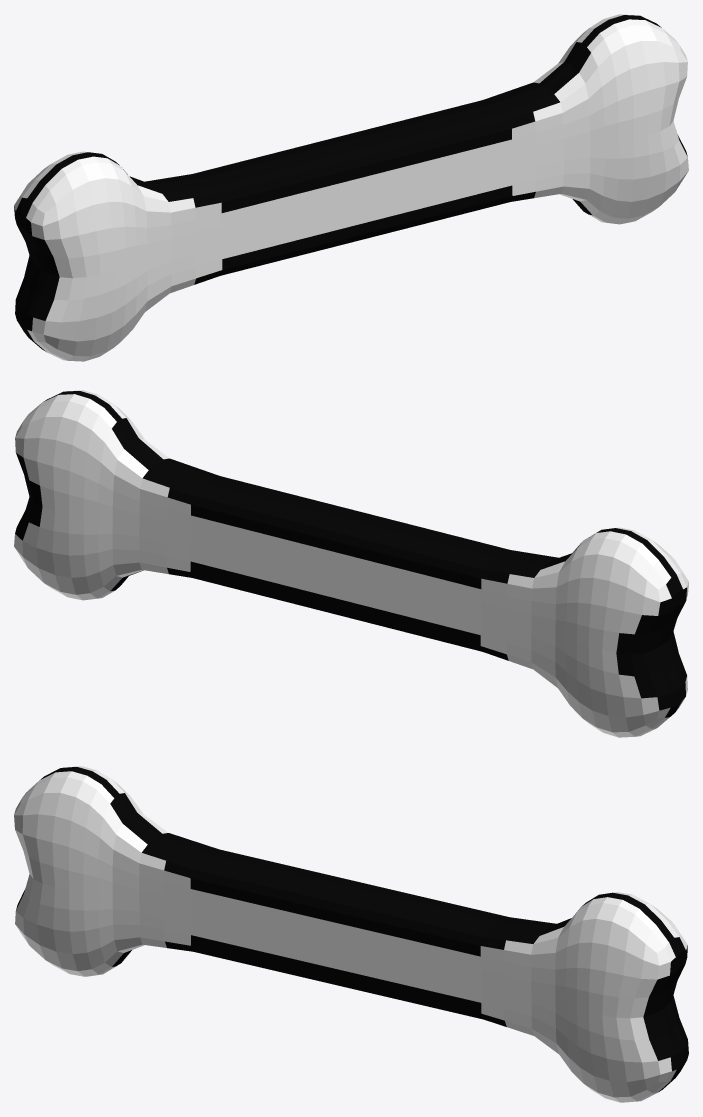
Rendered from bone.FBX.
3 renders of one model, top to bottom at view 1: azimuth 30°, elevation 25°; view 2: azimuth 150°, elevation 25°; view 3: azimuth 330°, elevation 25°, orthographic.
Visible parts, largest first — view 1: Bone; view 2: Bone; view 3: Bone.
Boxes of the visible parts, x1=… form: Bone: x1=14, y1=14, x2=688, y2=361; Bone: x1=14, y1=390, x2=688, y2=737; Bone: x1=14, y1=766, x2=688, y2=1102.
Size of the model in its own units: 1.24 by 0.1489 by 0.3758.
1 material, 1 textured.
